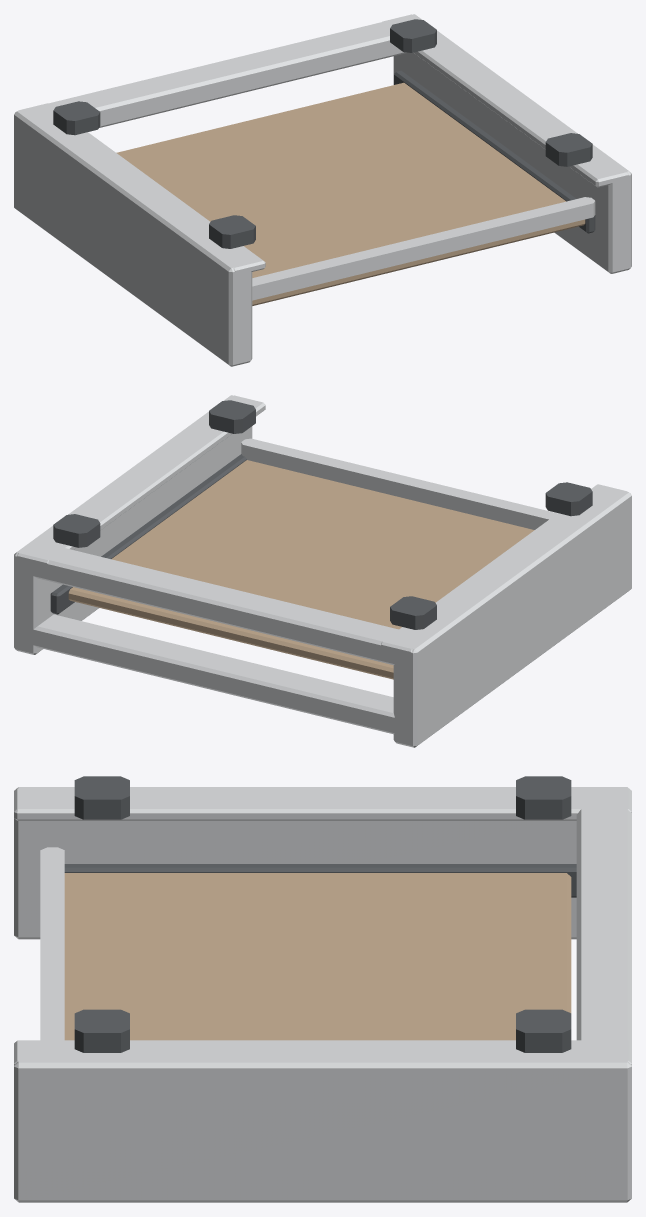
File: home-appliances-and-utility-laundry-stacking-kit-e6f1d76f__14056.glb
3 views of the same model, one above another, from view 1: azimuth 30°, elevation 25°; view 2: azimuth 150°, elevation 25°; view 3: azimuth 270°, elevation 25° (orthographic). The views are drawn at different scales.
Visible parts, largest first — view 1: laundry-stacking-kit, shelf-pullout (×2); view 2: laundry-stacking-kit, shelf-pullout (×2); view 3: laundry-stacking-kit, shelf-pullout (×2).
Boxes of the visible parts, bbox=[...] form: laundry-stacking-kit: bbox=[14, 14, 631, 366]; shelf-pullout (×2): bbox=[116, 82, 595, 305]; laundry-stacking-kit: bbox=[14, 395, 631, 747]; shelf-pullout (×2): bbox=[68, 438, 557, 679]; laundry-stacking-kit: bbox=[14, 776, 631, 1202]; shelf-pullout (×2): bbox=[40, 847, 571, 1040].
Size of the model in its own units: 0.599 by 0.16 by 0.56.
